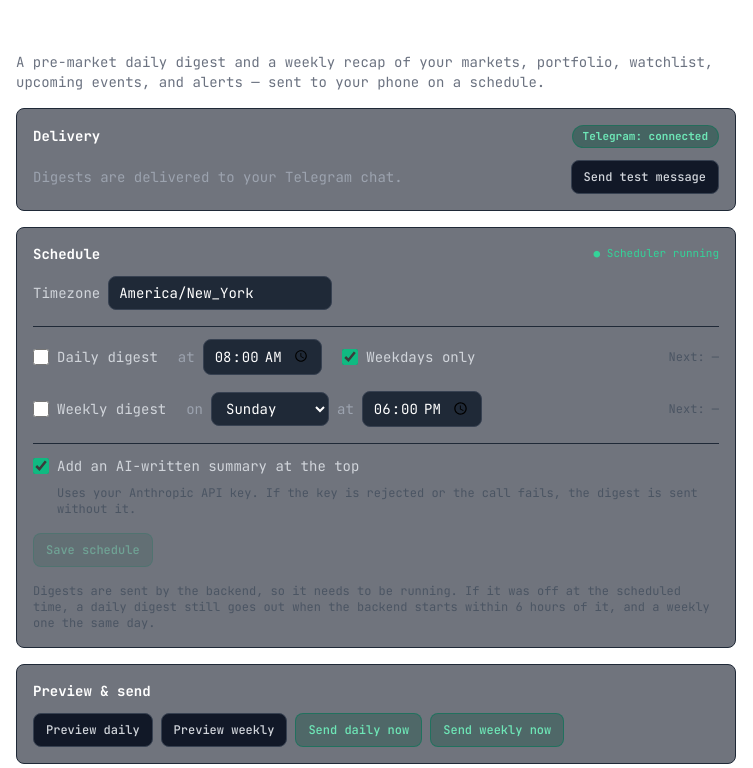
Scenario: DigestCenter › sends now, shows the result, and refreshes history
Click the button "Send weekly now".
click(497, 730)  # box [430,712,564,746]
(page scrolled)
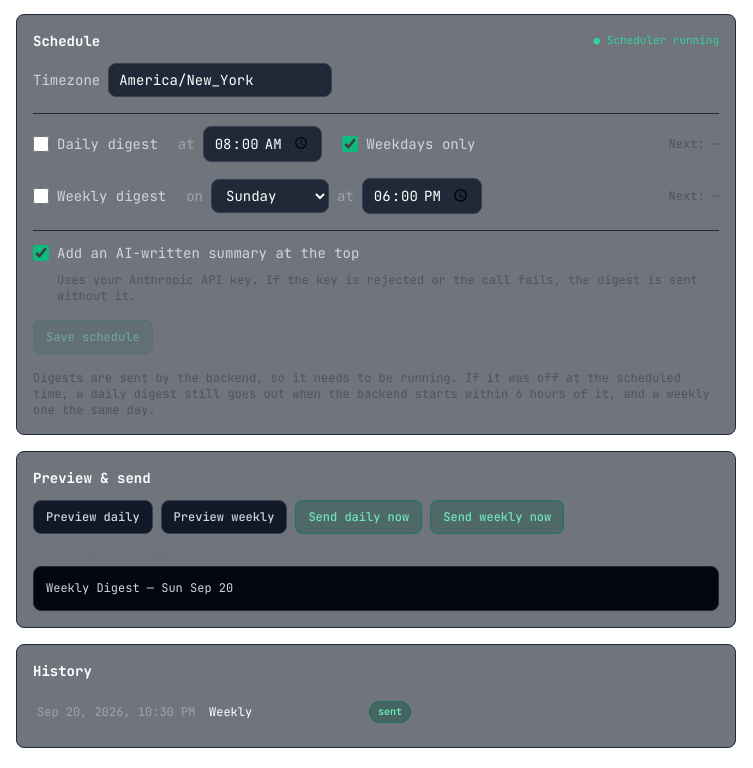
Check: the text with test id "digest-output" reads "Weekly Digest — Sun Sep 20", box [46,580,233,596]
Check: the text "sent" is shown, box [369,701,411,723]
